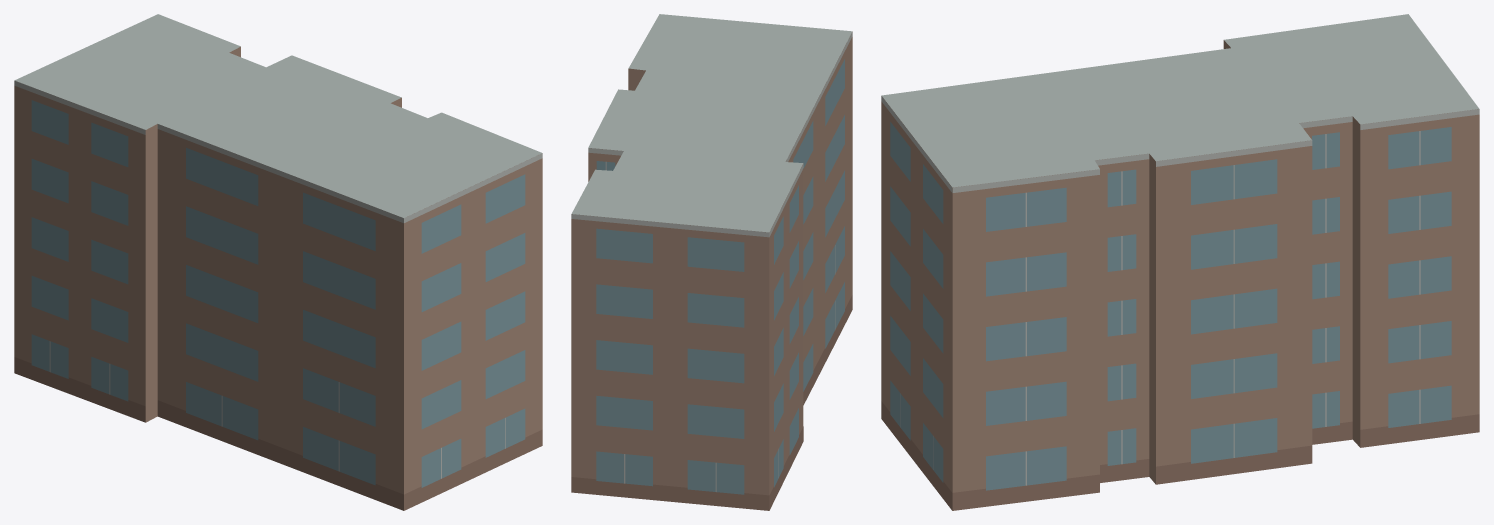
The model's file is survey-upis-32611253.glb.
The picture shows the model from 3 angles, left to right: view 1: azimuth 30°, elevation 25°; view 2: azimuth 150°, elevation 25°; view 3: azimuth 270°, elevation 25°; orthographic projection. The views are drawn at different scales.
Parts seen in each view (by area): view 1: survey-upis-32611253.tmp; view 2: survey-upis-32611253.tmp; view 3: survey-upis-32611253.tmp.
Part boxes in pixels (<box>): survey-upis-32611253.tmp: <box>14,14,542,510</box>; survey-upis-32611253.tmp: <box>571,14,852,510</box>; survey-upis-32611253.tmp: <box>881,14,1479,510</box>.
Bounding box in the file's own units: 16.01 × 13.9 × 23.31.
